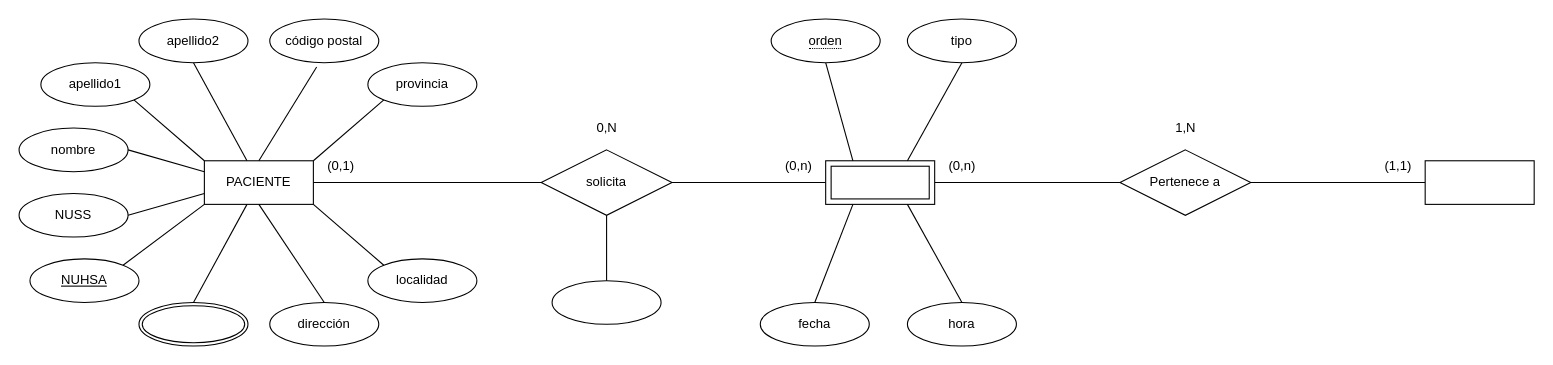
The diagram is 1553 pixels wide and 365 high, and some of its shapes have lost their labels. Here are the shapes that lost their labels. From the top down, the box of each, then its label:
(825, 160, 935, 204): CITA
(1424, 160, 1534, 204): AGENDA
(551, 280, 661, 324): Descripción
(138, 301, 248, 346): teléfonos
